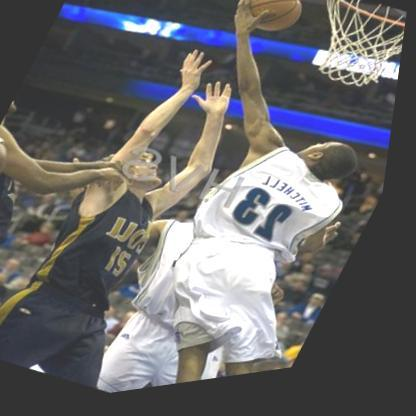basketball: (233, 0, 317, 52)
rim: (317, 0, 412, 63)
